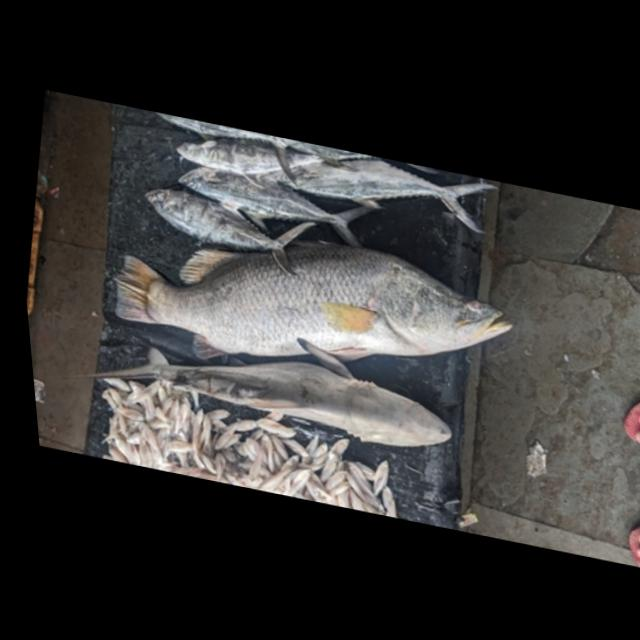Seabass: (92, 193, 531, 421)
